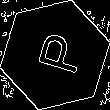P_W: (26, 30, 84, 80)
